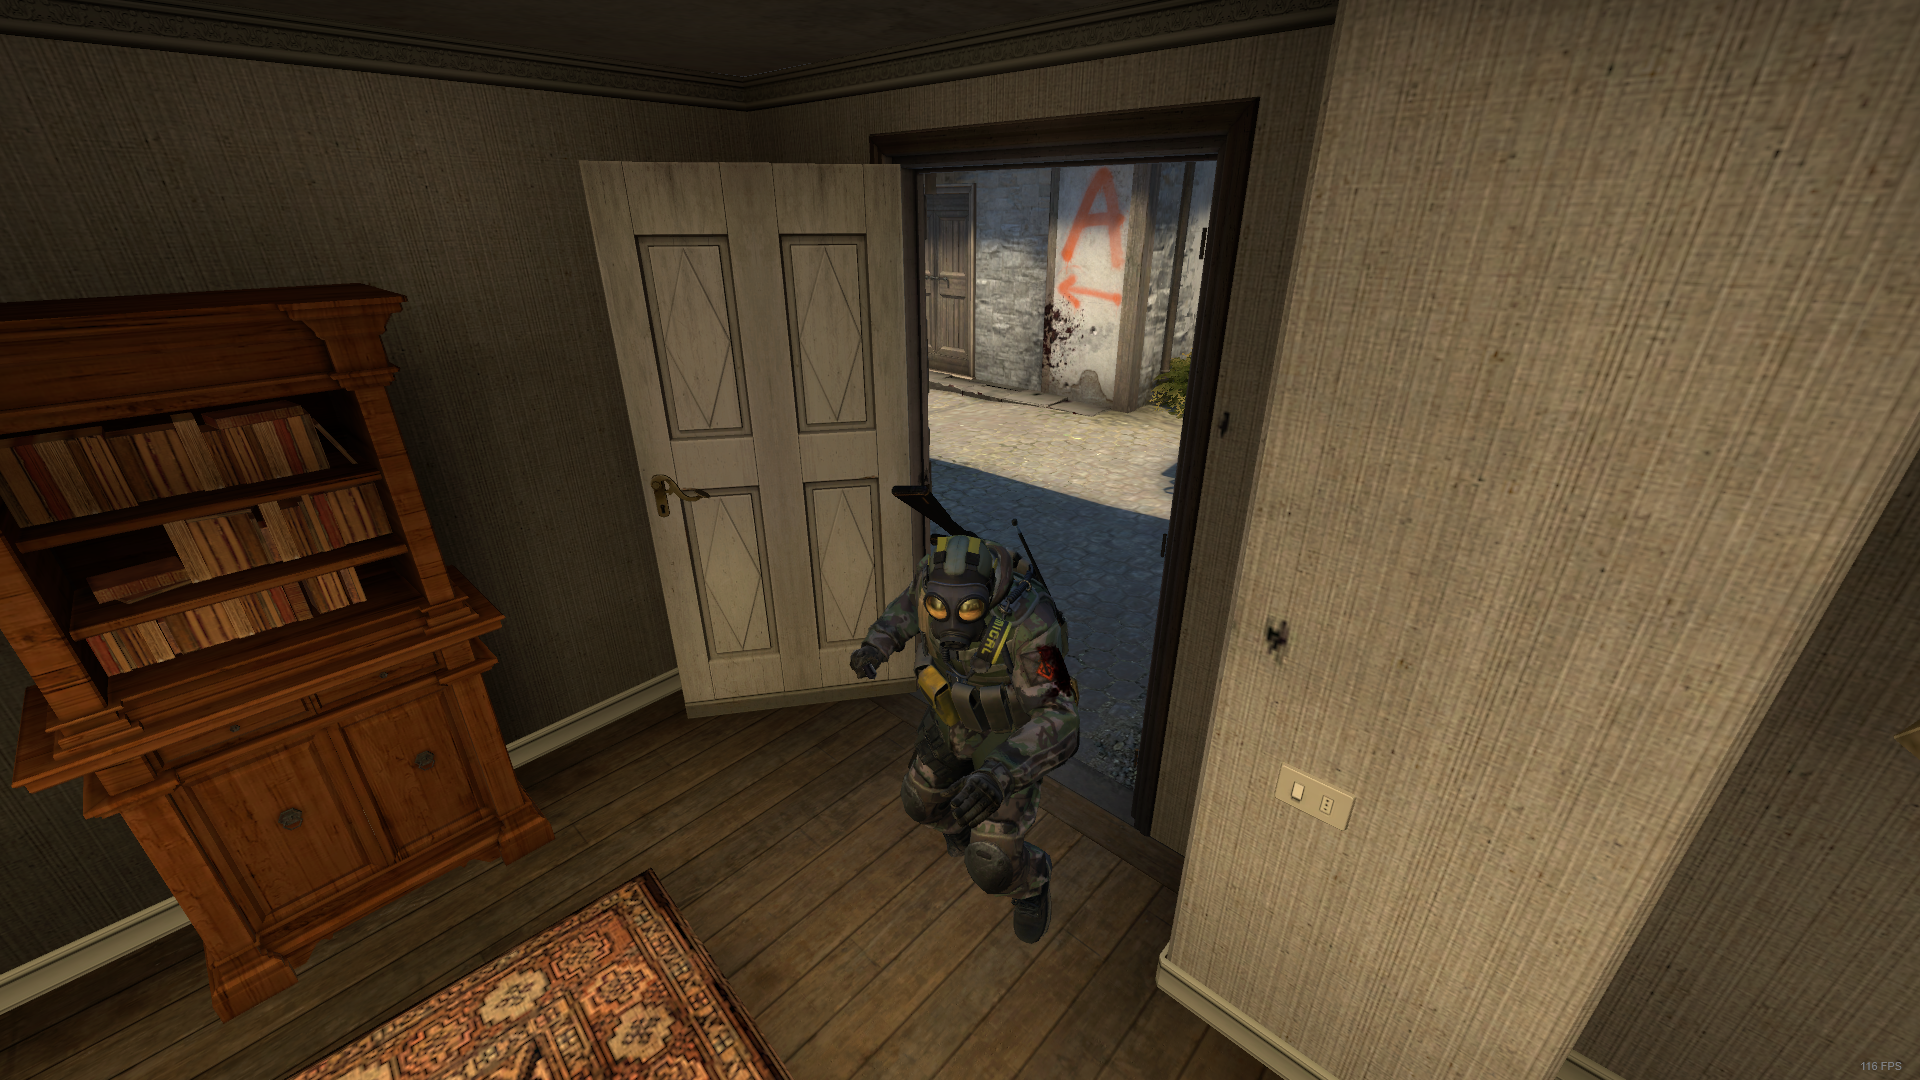ct: (839, 506, 1105, 942)
